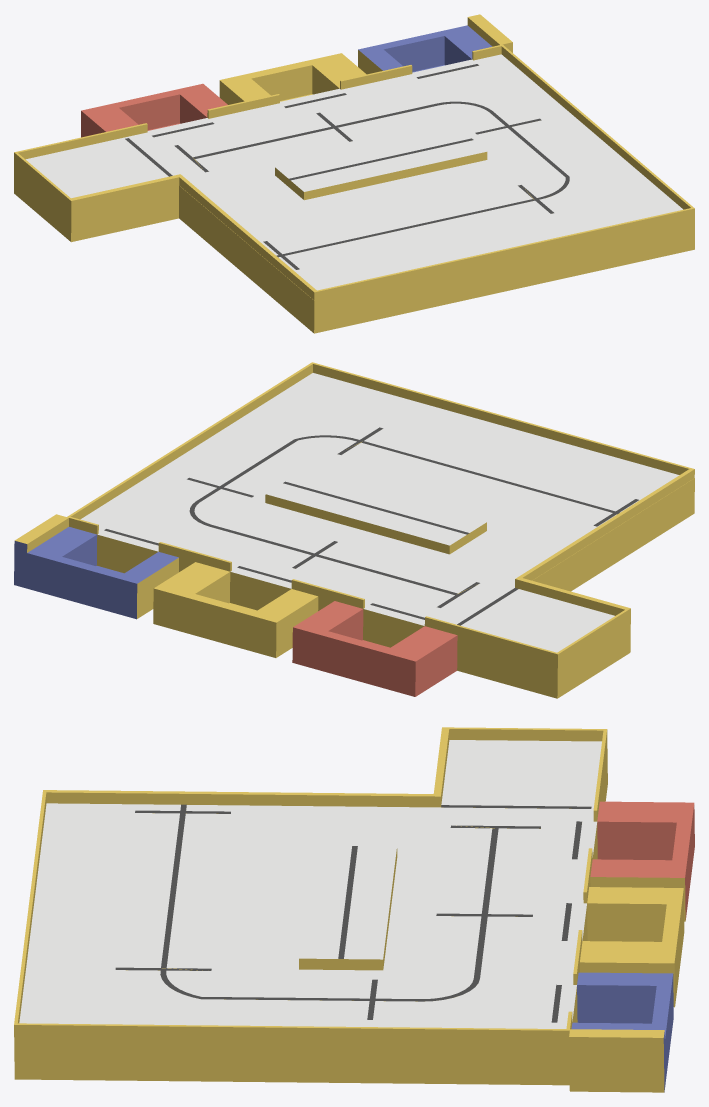
The model's file is irc_stage2.dae.
3 views of the same model, one above another, from view 1: azimuth 30°, elevation 25°; view 2: azimuth 150°, elevation 25°; view 3: azimuth 270°, elevation 25° (orthographic). The views are drawn at different scales.
Parts seen in each view (by area): view 1: Body1; view 2: Body1; view 3: Body1.
Boxes of the visible parts, x1,y1,x2,y2 form: Body1: (14, 14, 694, 333); Body1: (14, 362, 694, 698); Body1: (14, 727, 694, 1092).
Size of the model in its own units: 2.49 by 2.26 by 0.2366.
